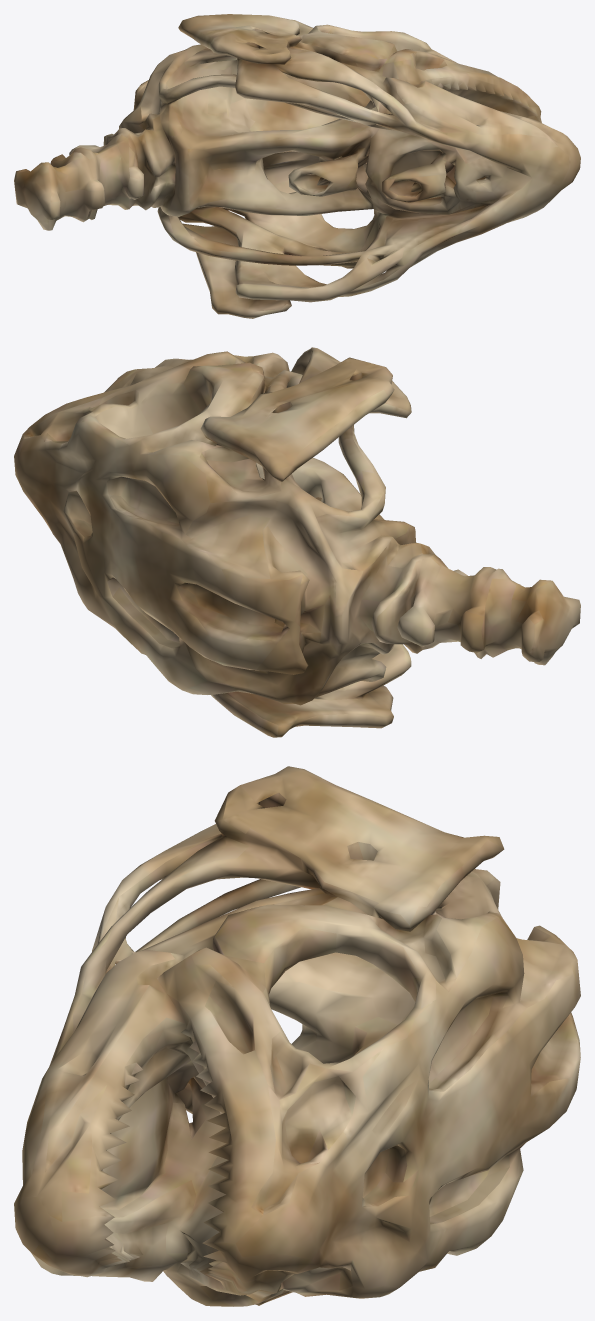
The model's file is bone_skull_l.glb.
3 renders of one model, top to bottom at view 1: azimuth 30°, elevation 25°; view 2: azimuth 150°, elevation 25°; view 3: azimuth 270°, elevation 25°, orthographic. The views are drawn at different scales.
Parts seen in each view (by area): view 1: bone_skull_l; view 2: bone_skull_l; view 3: bone_skull_l.
Part boxes in pixels (x1,y1,x2,y2): bone_skull_l: (14, 14, 580, 318); bone_skull_l: (14, 347, 580, 737); bone_skull_l: (14, 766, 580, 1306).
Bounding box in the file's own units: 0.3 × 0.1676 × 0.1855.
1 material, 1 textured.
